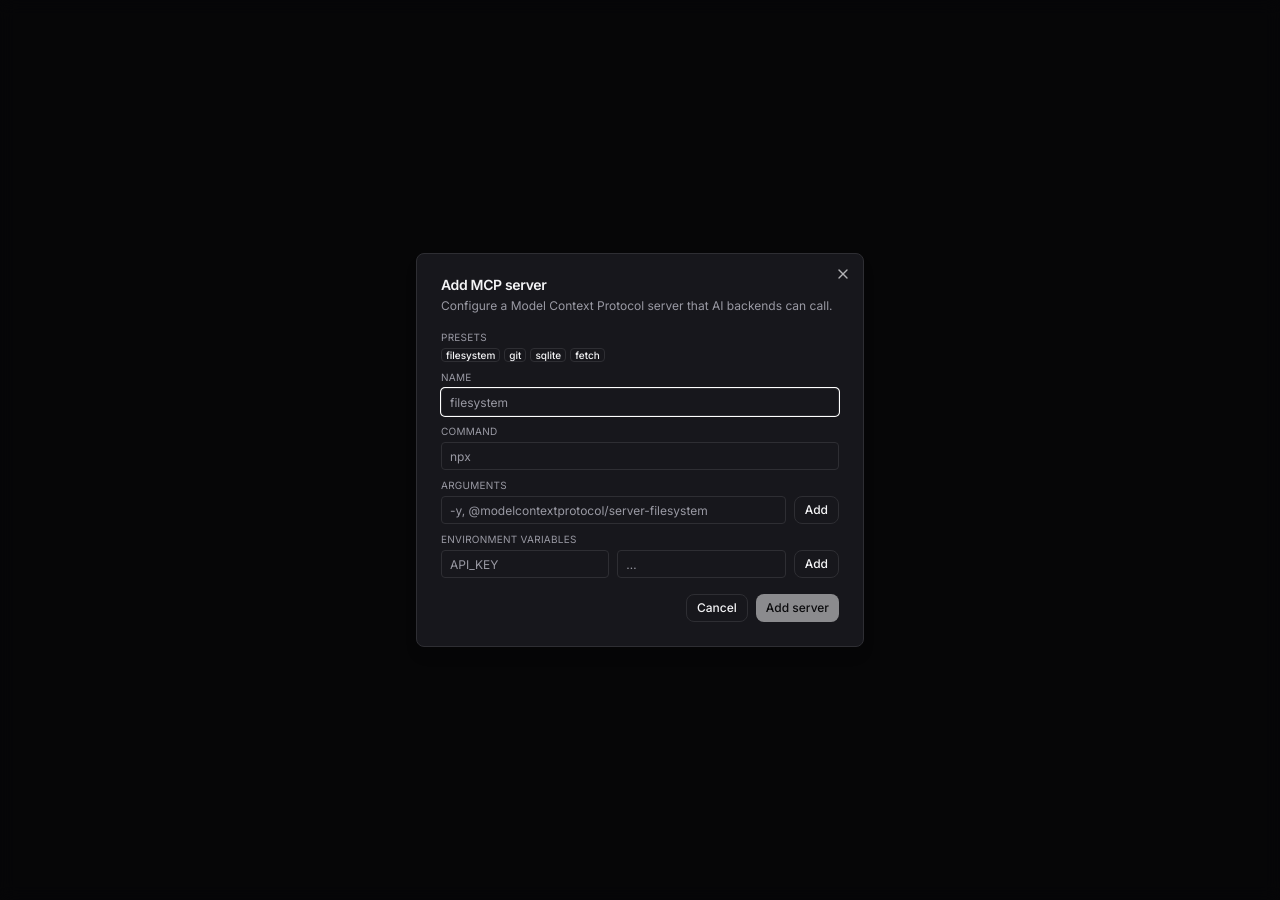
AddMCPDialog › labels an env var with no value as (empty), not masked dots
Type "FLAG" into the field with test id "mcp-env-key".
click(525, 564); type("FLAG")  # box [441, 550, 609, 578]
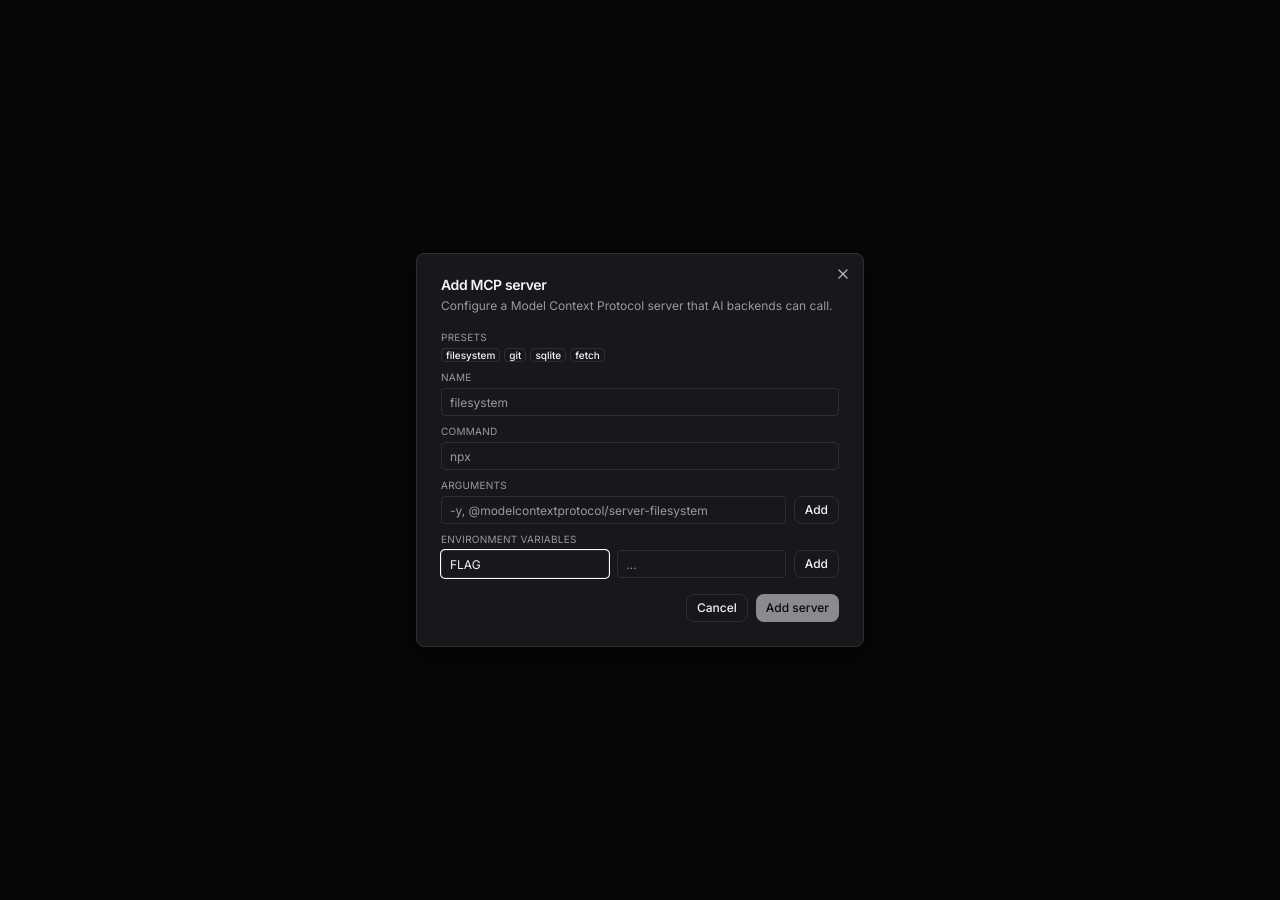
Click the button "Add" below "Environment variables".
click(816, 564)  # box [794, 550, 839, 578]
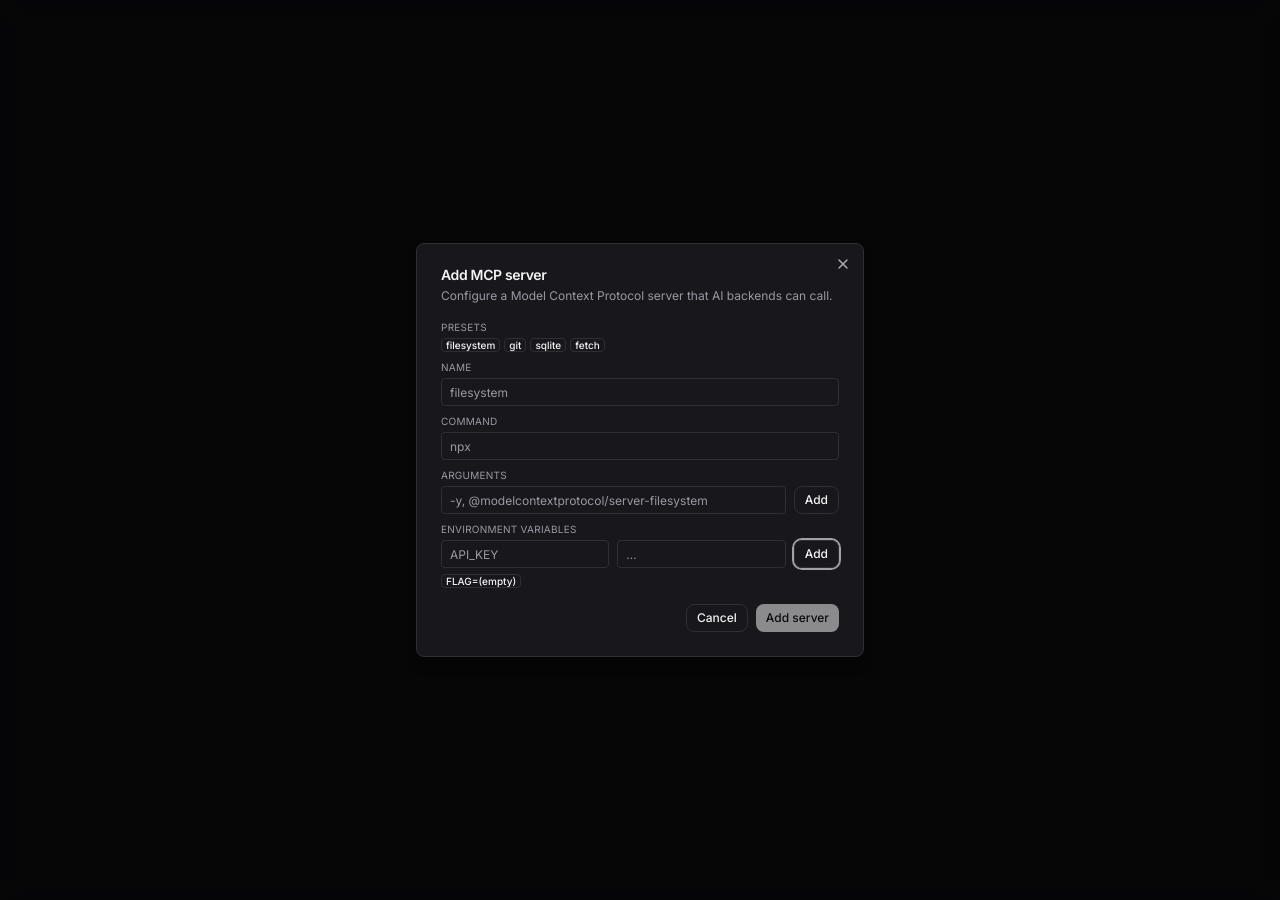
Now the text "FLAG=(empty)" is shown, box [441, 574, 521, 588]
